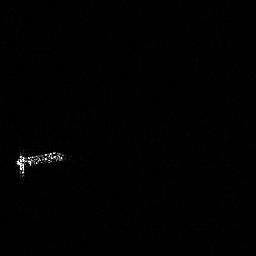ship: (14, 146, 74, 181)
